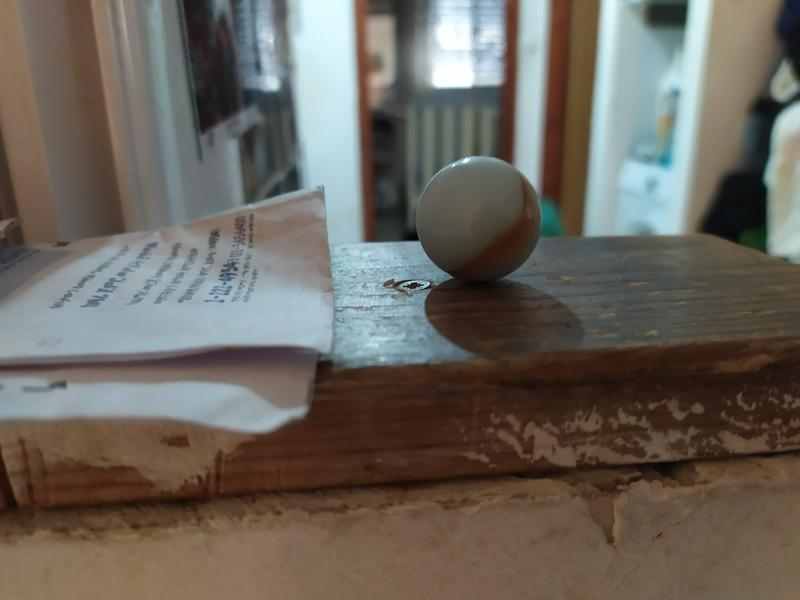Warning: (412, 153, 546, 285)
